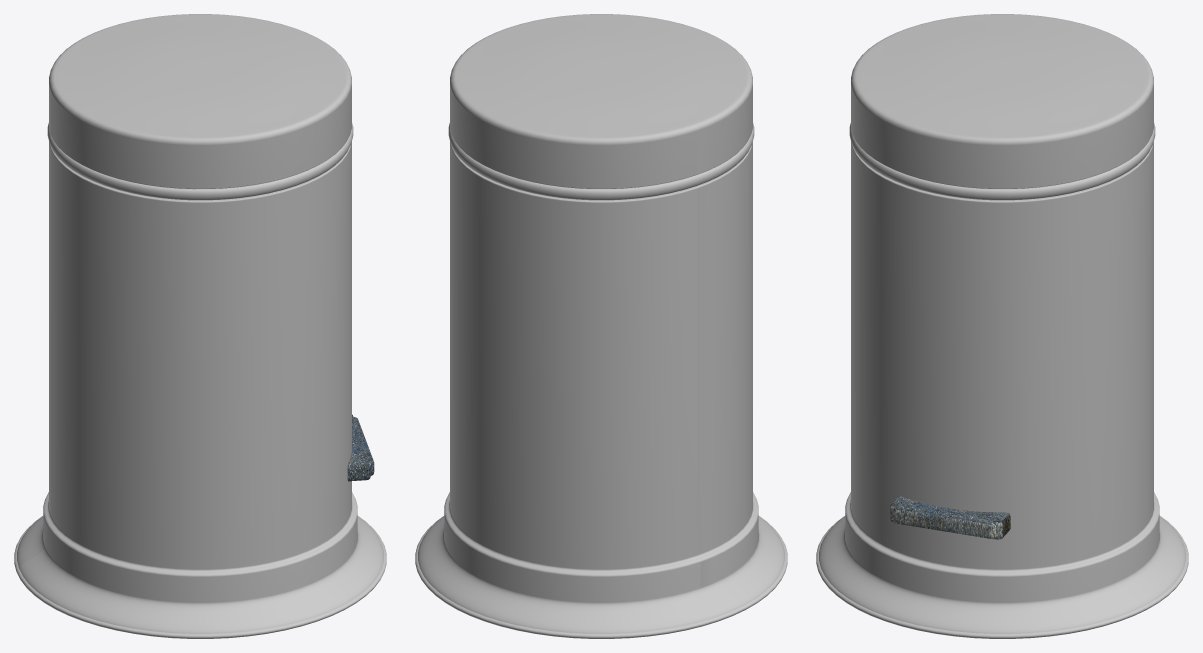
Rendered from Bin.obj.
3 renders of one model, left to right at view 1: azimuth 30°, elevation 25°; view 2: azimuth 150°, elevation 25°; view 3: azimuth 270°, elevation 25°, orthographic.
Visible parts, largest first — view 1: BinBody, OpenButton; view 2: BinBody; view 3: BinBody, OpenButton2, OpenButton.
Boxes of the visible parts, left/top/right/bottom form: BinBody: left=14, top=14, right=386, bottom=638; OpenButton: left=347, top=414, right=370, bottom=481; BinBody: left=415, top=14, right=787, bottom=638; BinBody: left=816, top=14, right=1188, bottom=638; OpenButton2: left=893, top=507, right=996, bottom=538; OpenButton: left=890, top=496, right=1010, bottom=539.
Size of the model in its own units: 8.1 by 11.72 by 8.1.
